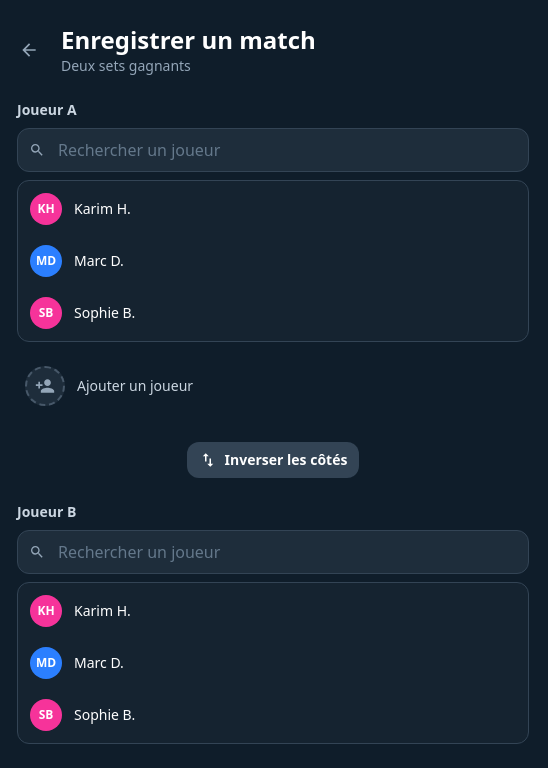
it: Ping-pong match entry › the winner › names the other player when the other player won
Click the 1st option "MD Marc D." at (46, 261), box [22, 237, 524, 285]
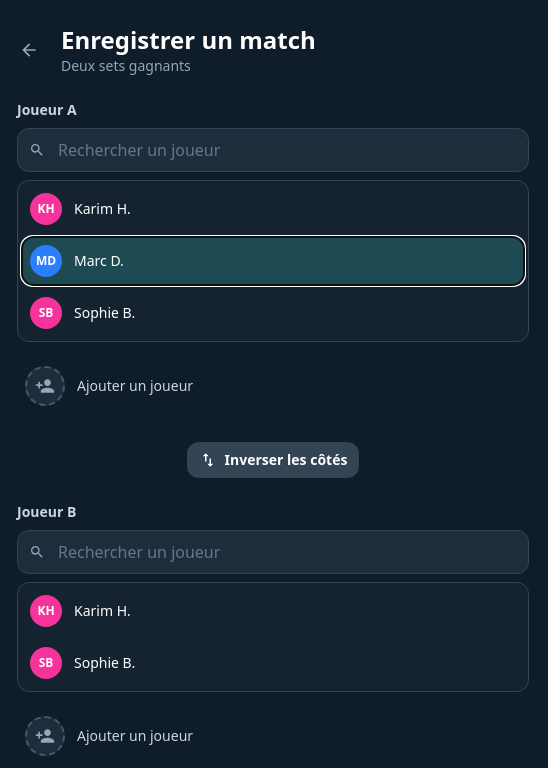
Click the 2nd option "SB Sophie B." at (46, 663), box [22, 639, 524, 687]
(page scrolled)
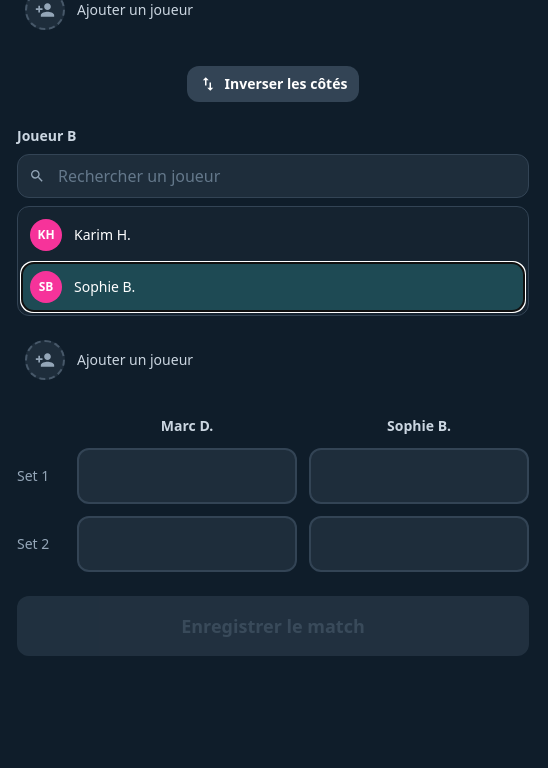
Type "5" into the field named "Set 1, joueur A" at (187, 476), box [77, 448, 297, 504]
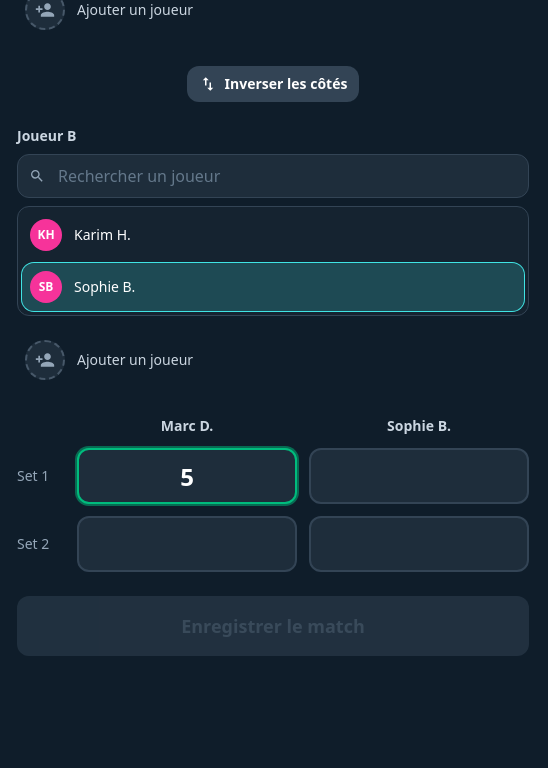
Type "11" into the field named "Set 1, joueur B" at (419, 476), box [309, 448, 529, 504]
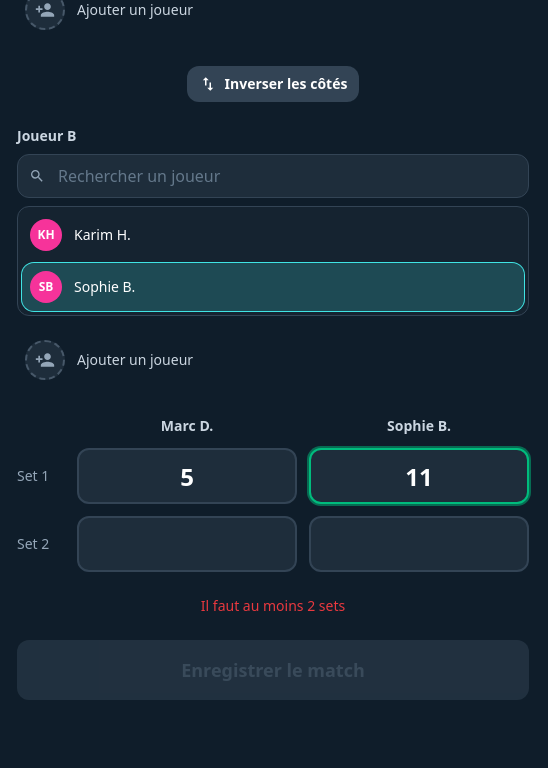
Type "8" into the field named "Set 2, joueur A" at (187, 544), box [77, 516, 297, 572]
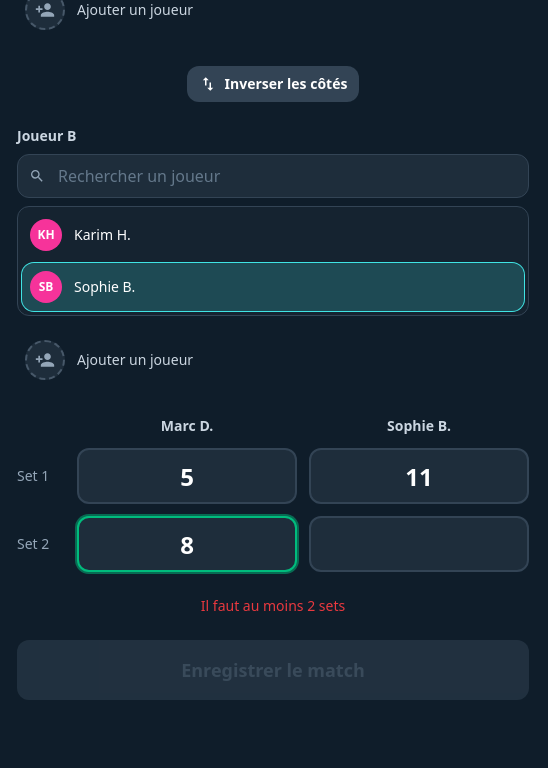
Type "11" into the field named "Set 2, joueur B" at (419, 544), box [309, 516, 529, 572]
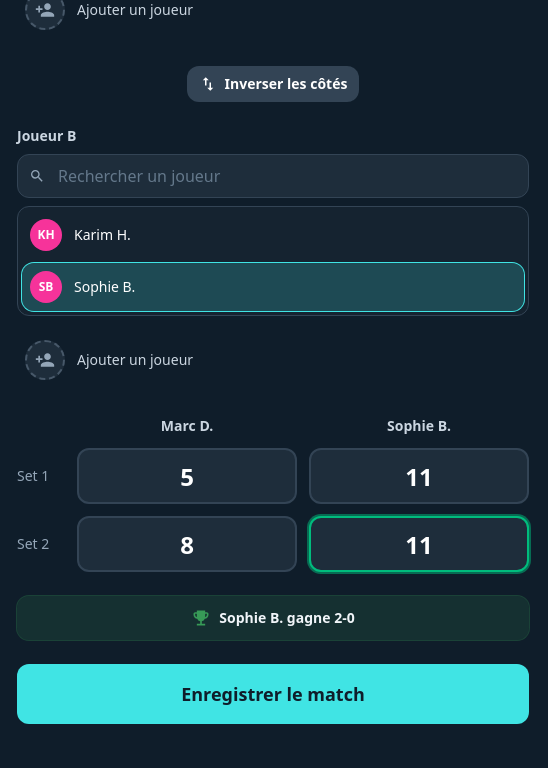
Expected: the element with test id "match-winner" does not show "Marc", [17, 596, 529, 640]
Result: the element with test id "match-winner" shows "Sophie" at [219, 608, 283, 627]
